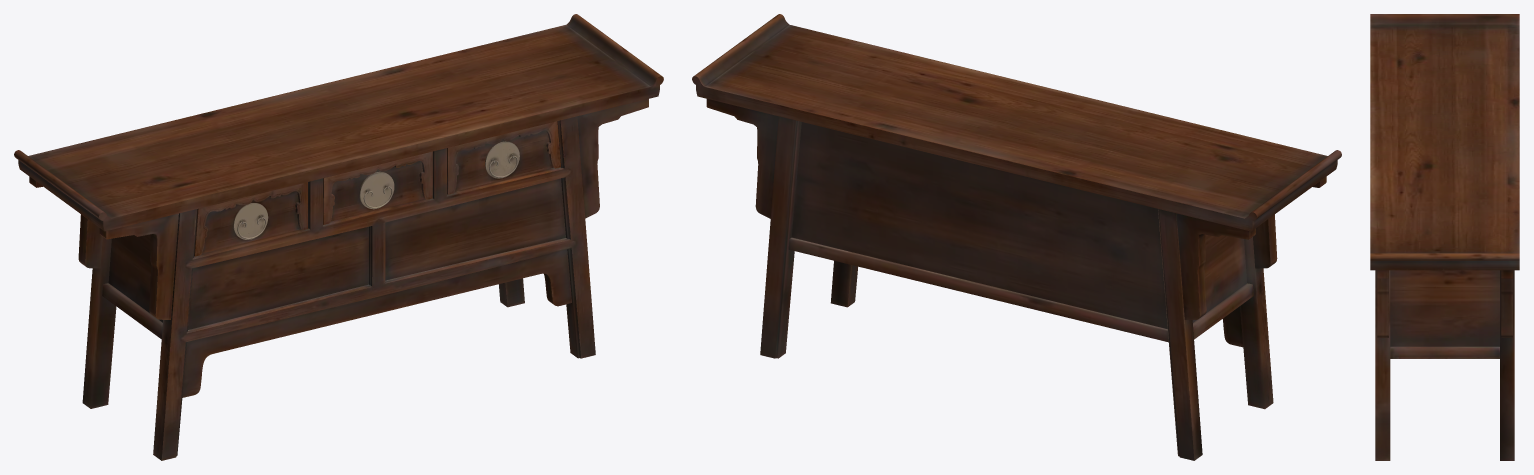
Rendered from chinese_commode.glb.
3 views of the same model, side by side, from view 1: azimuth 30°, elevation 25°; view 2: azimuth 150°, elevation 25°; view 3: azimuth 270°, elevation 25° (orthographic). The views are drawn at different scales.
Visible parts, largest first — view 1: chinese_commode; view 2: chinese_commode; view 3: chinese_commode.
Part boxes in pixels (box(x1,y1,x2,y2)): chinese_commode: box(14, 14, 663, 460); chinese_commode: box(692, 14, 1341, 460); chinese_commode: box(1370, 14, 1519, 460).
Size of the model in its own units: 4.49 by 2.02 by 1.17.
Materials: 1 (1 with a texture image).
